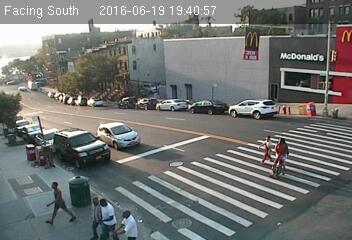neg: (129, 63, 141, 80), (316, 76, 326, 88), (296, 76, 305, 88), (307, 75, 316, 87), (225, 26, 234, 38), (298, 28, 306, 39), (288, 25, 296, 35), (272, 29, 279, 39), (285, 74, 292, 83)
pos: (42, 176, 76, 222), (270, 136, 299, 175), (119, 206, 143, 238)
